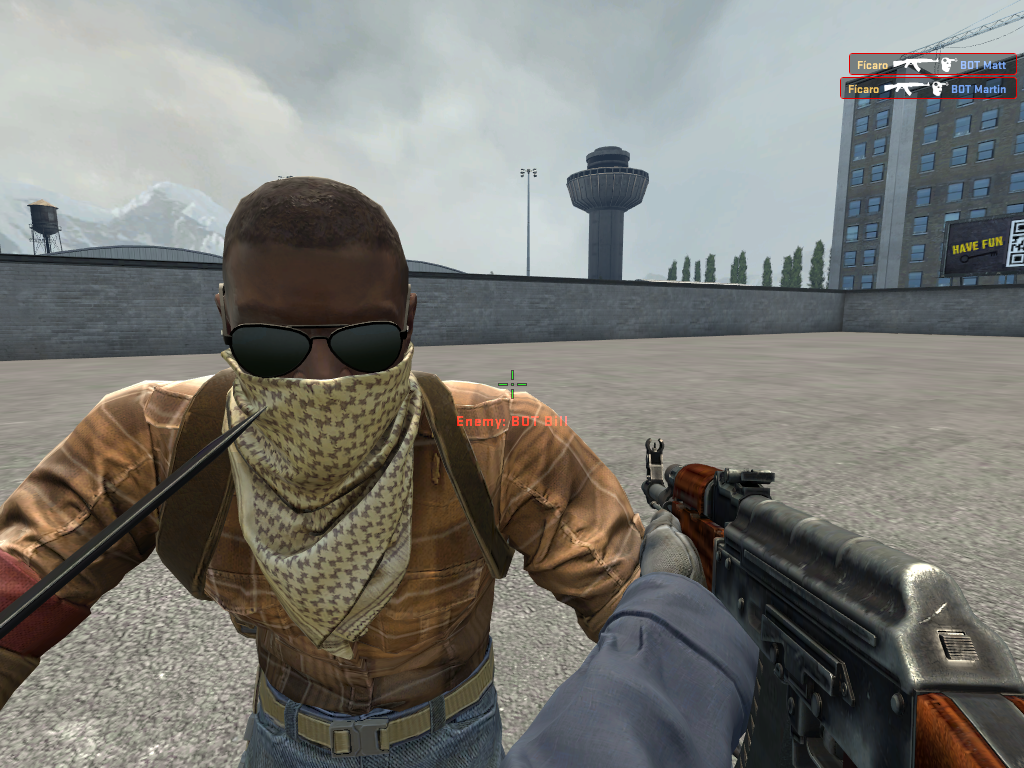tr head: (209, 174, 422, 488)
